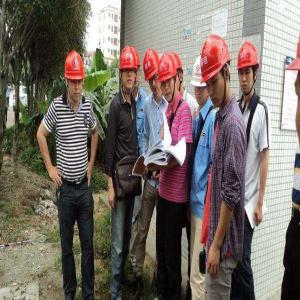red: (200, 31, 234, 110), (236, 39, 260, 97), (63, 49, 86, 107), (157, 52, 179, 104), (143, 46, 162, 95), (119, 46, 137, 95)
white: (192, 55, 210, 109)
